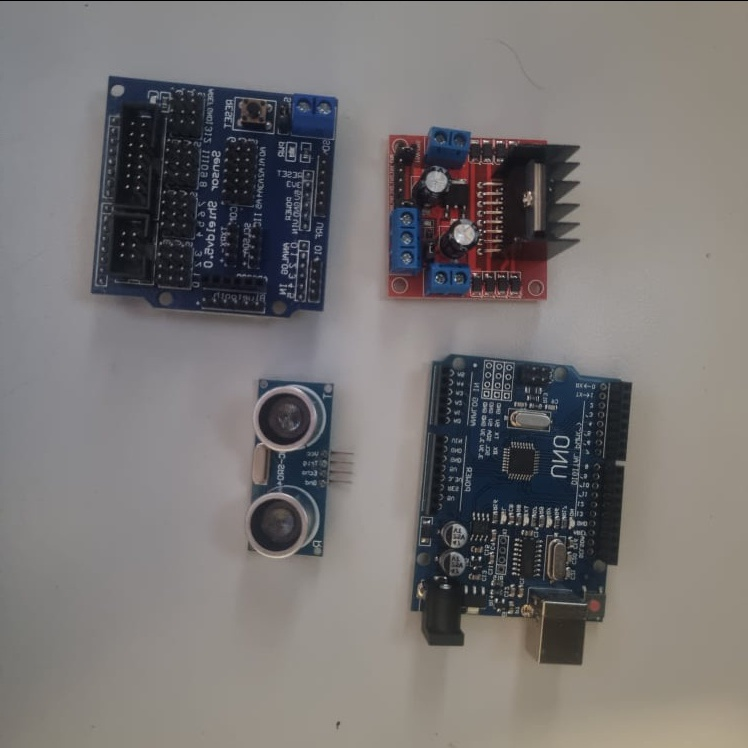5V EXPANSION: (89, 74, 338, 315)
MOTOR: (386, 123, 581, 300)
SENSOR: (248, 371, 338, 560)
UNO R3: (411, 353, 632, 666)
